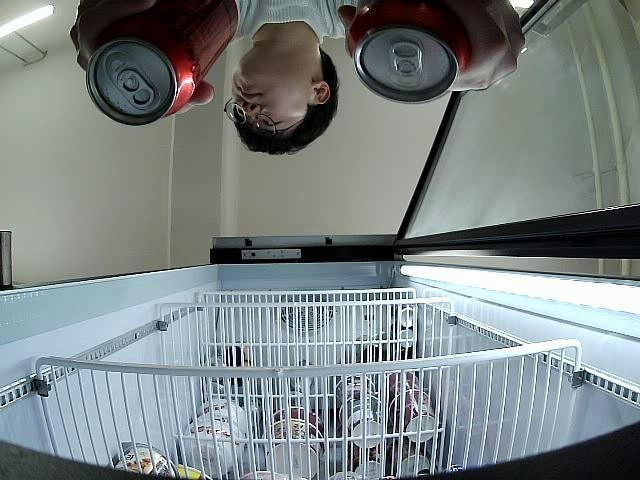11_cocaColaZero: (88, 0, 239, 126), (350, 0, 470, 104)
